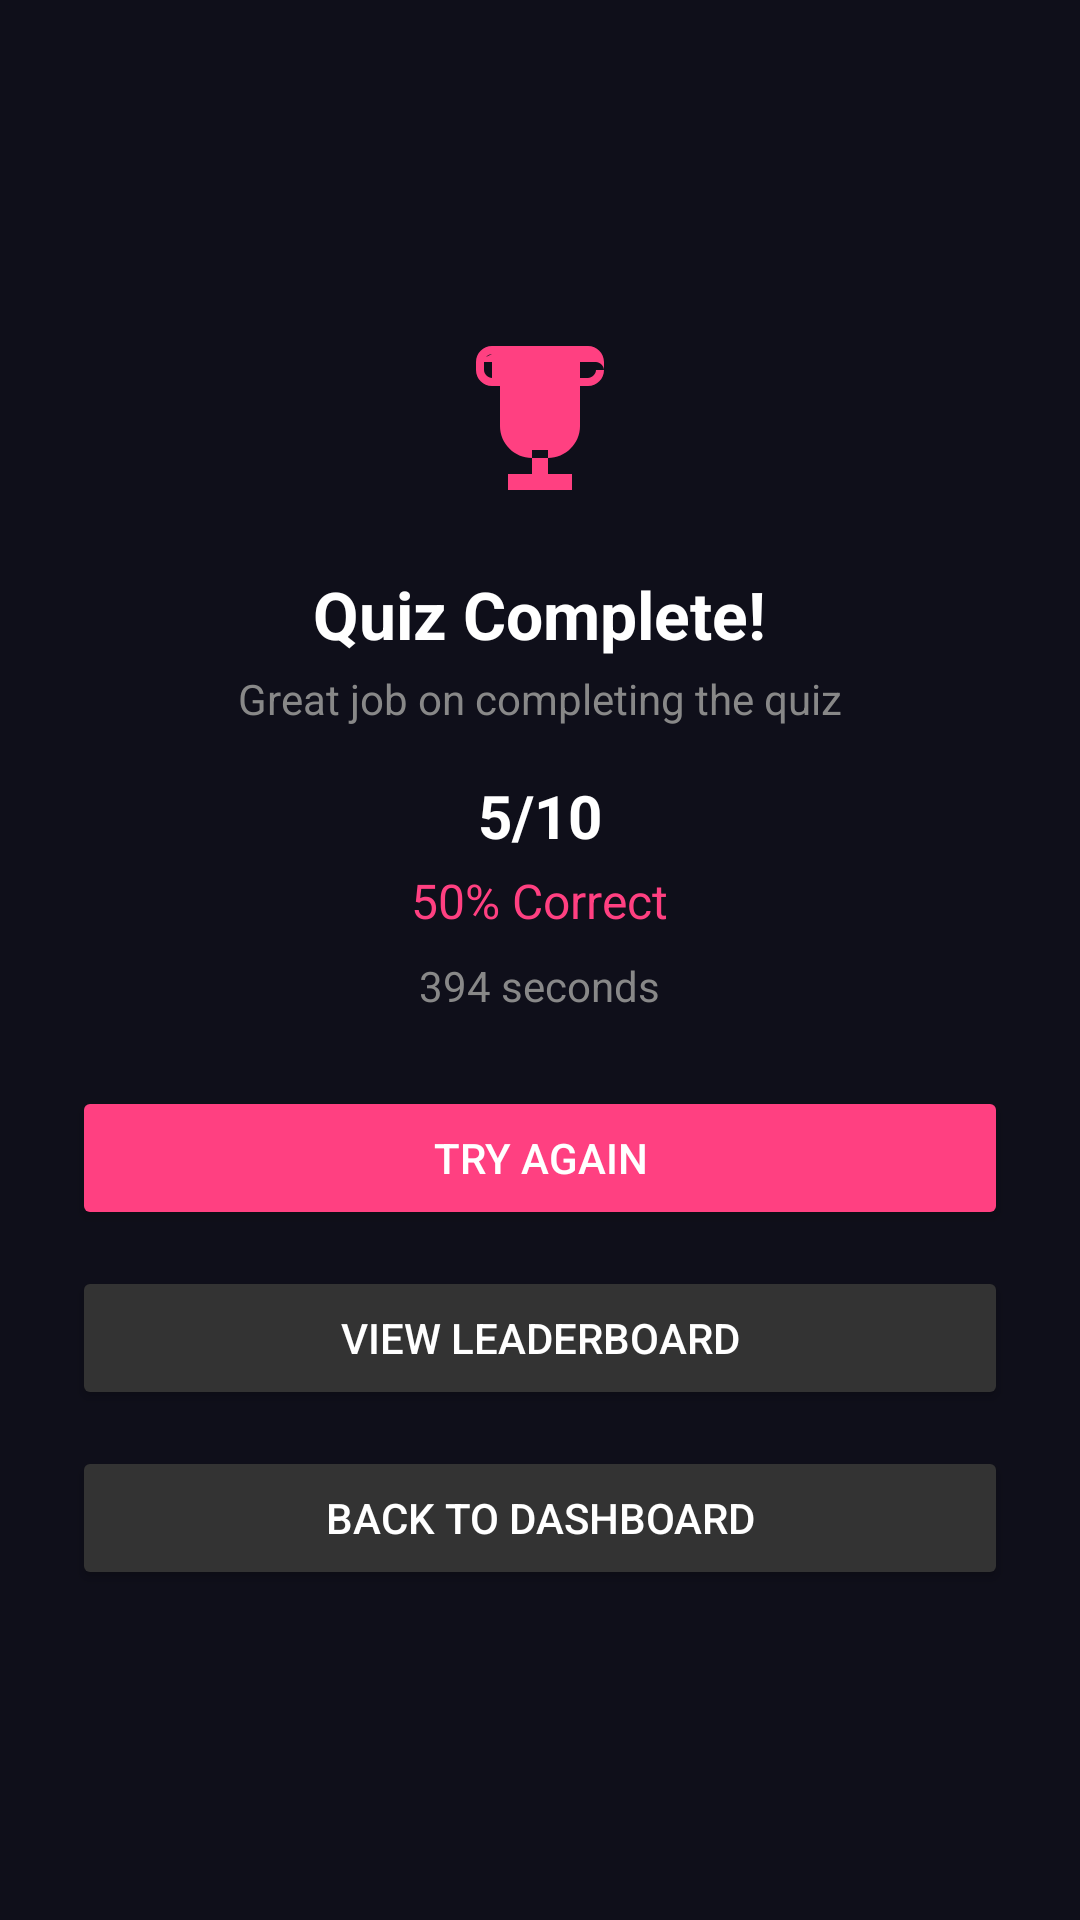

Icons on this 1080*1920 Android screen, each with its box as (x1, y1, x2, y2):
Trophy: (476, 346, 604, 490)
